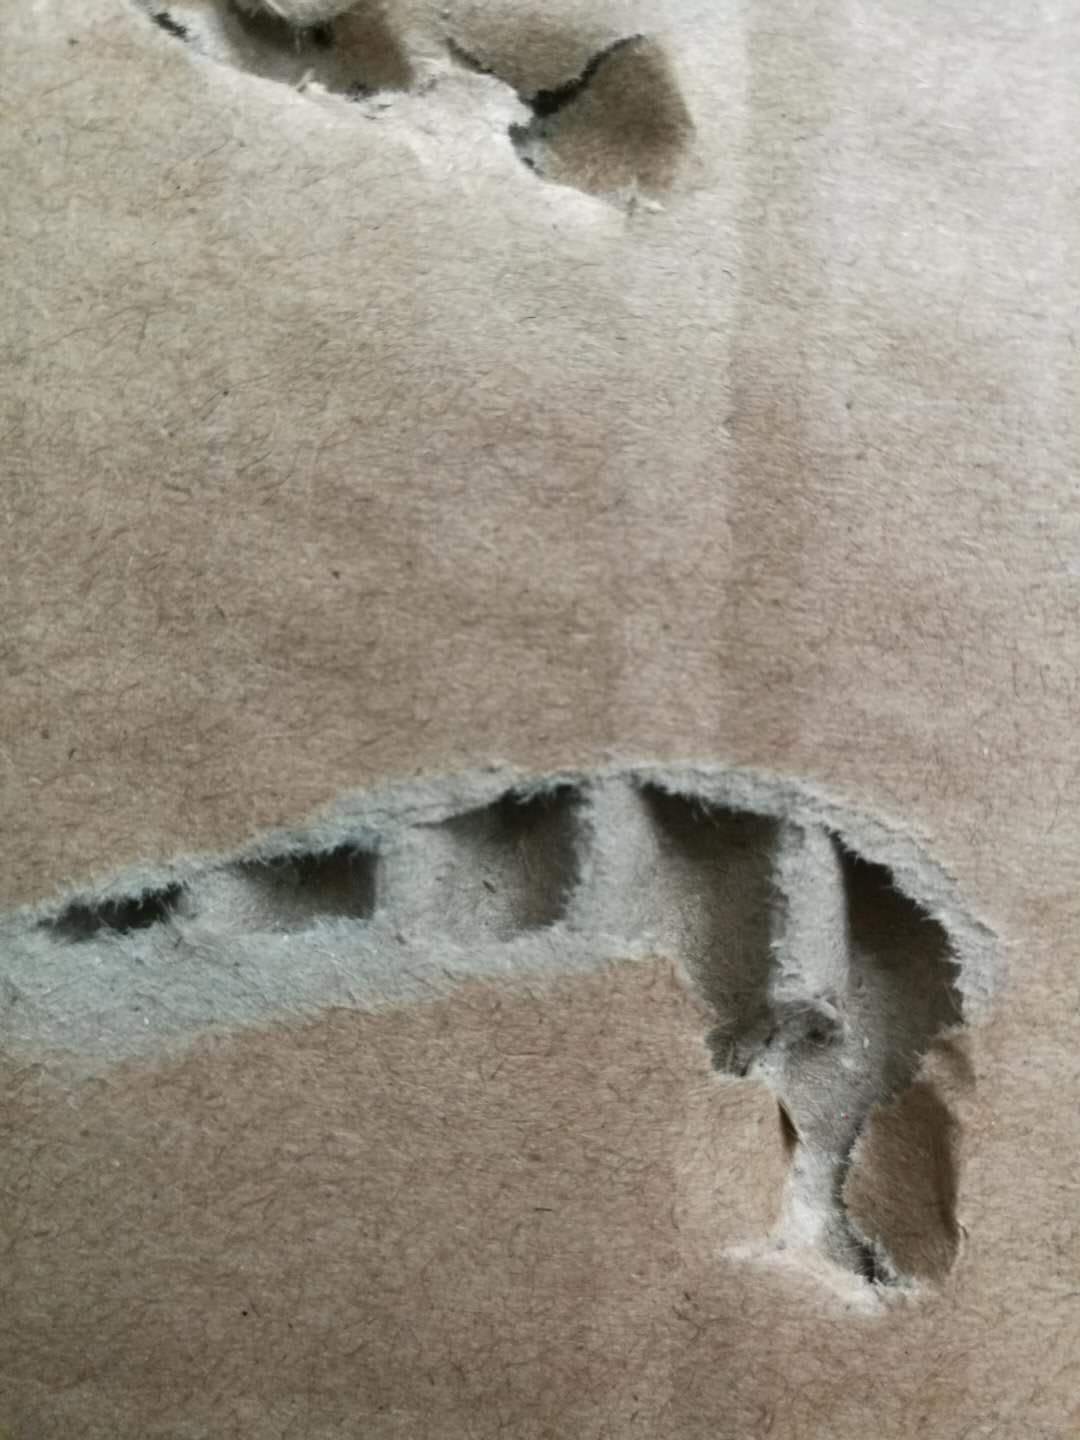defect: (3, 710, 1075, 1370), (109, 5, 722, 268), (689, 5, 872, 853)
